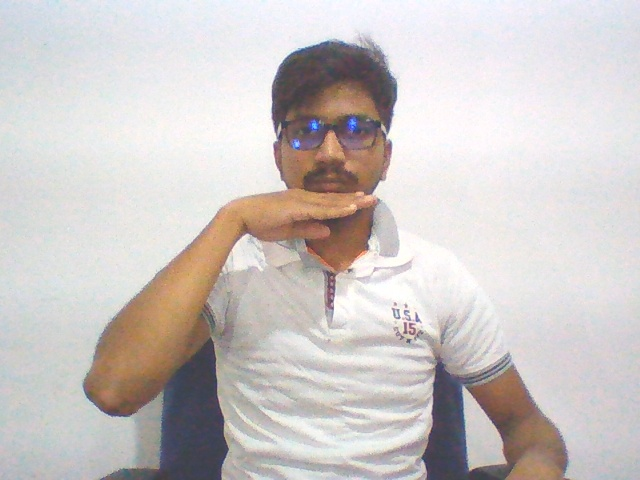elephant: (216, 181, 383, 254)
